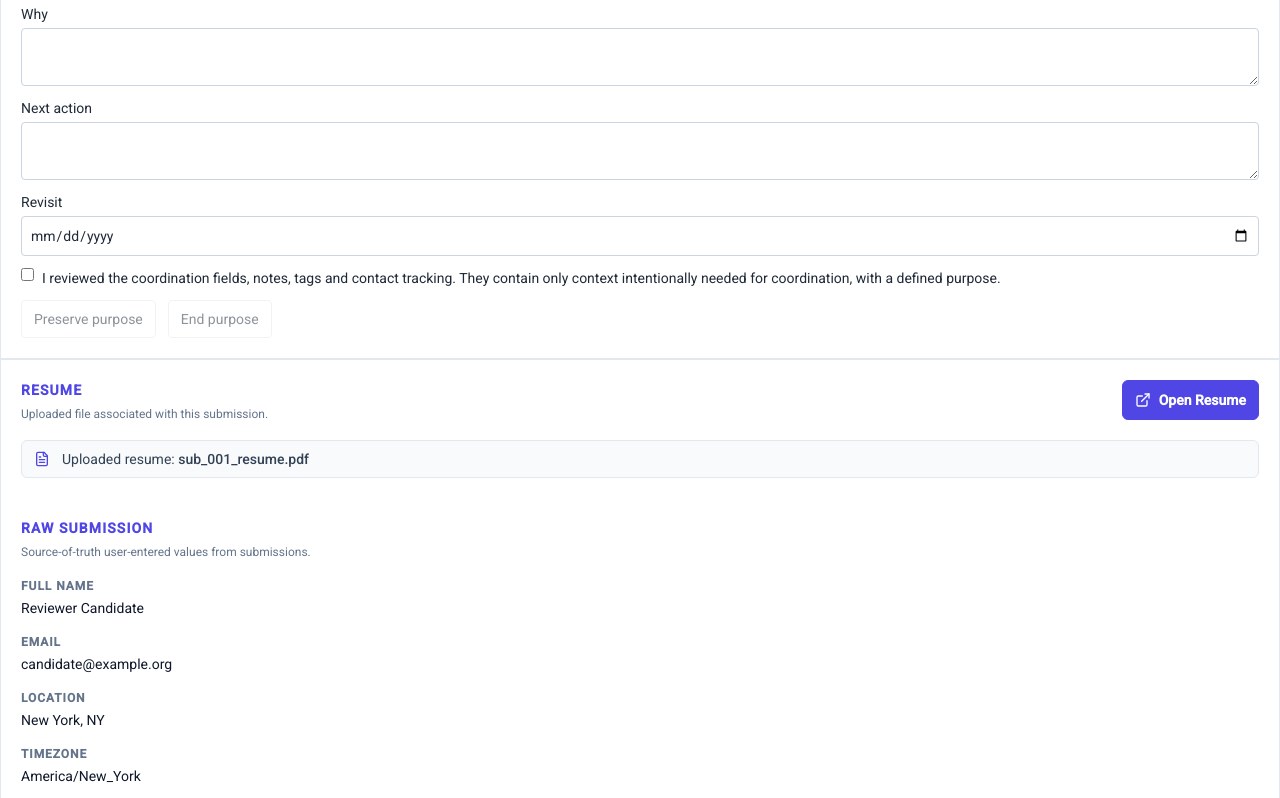
InboxDetailPanel resume access › shows and fetches the proxy action for an uploaded resume
(page scrolled)
Click the button "Open Resume": (1190,400) [1122, 380, 1259, 420]
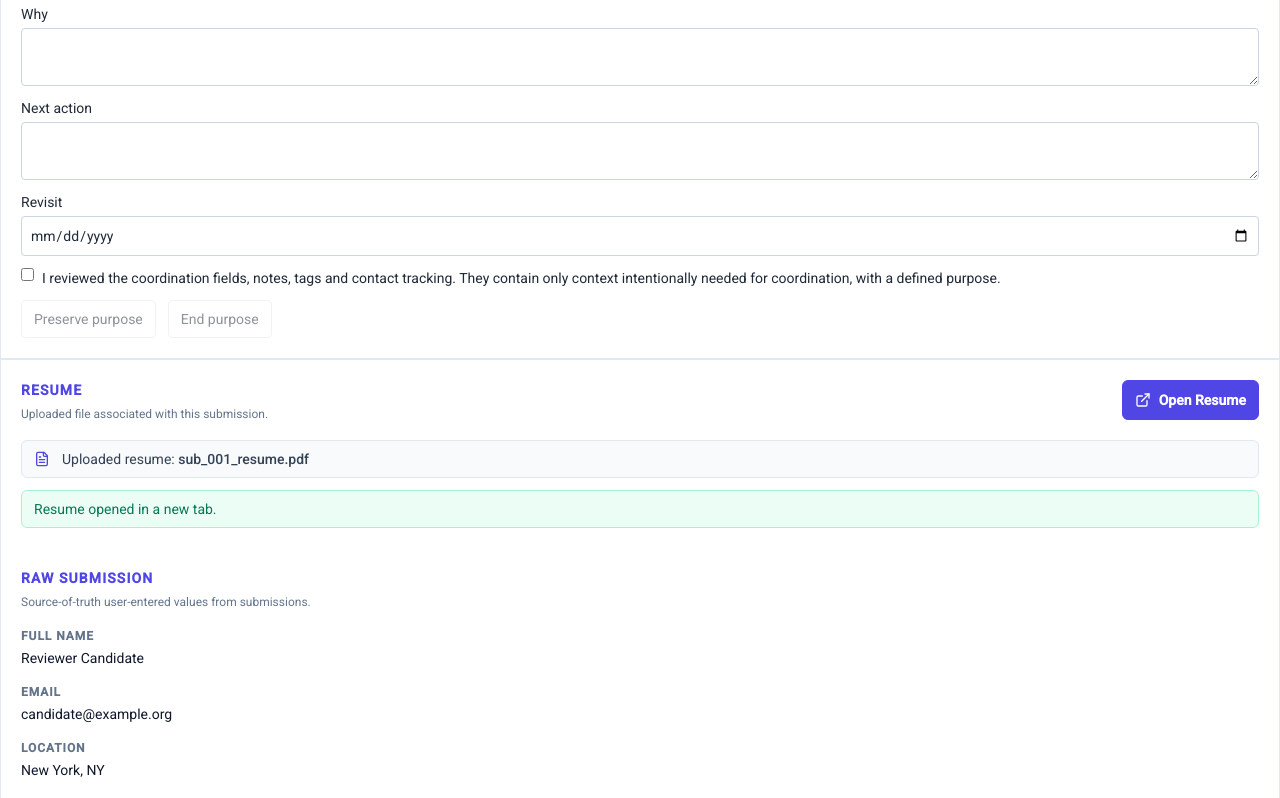
Result: the text "Resume opened in a new tab." is shown at [21, 490, 1259, 528]
